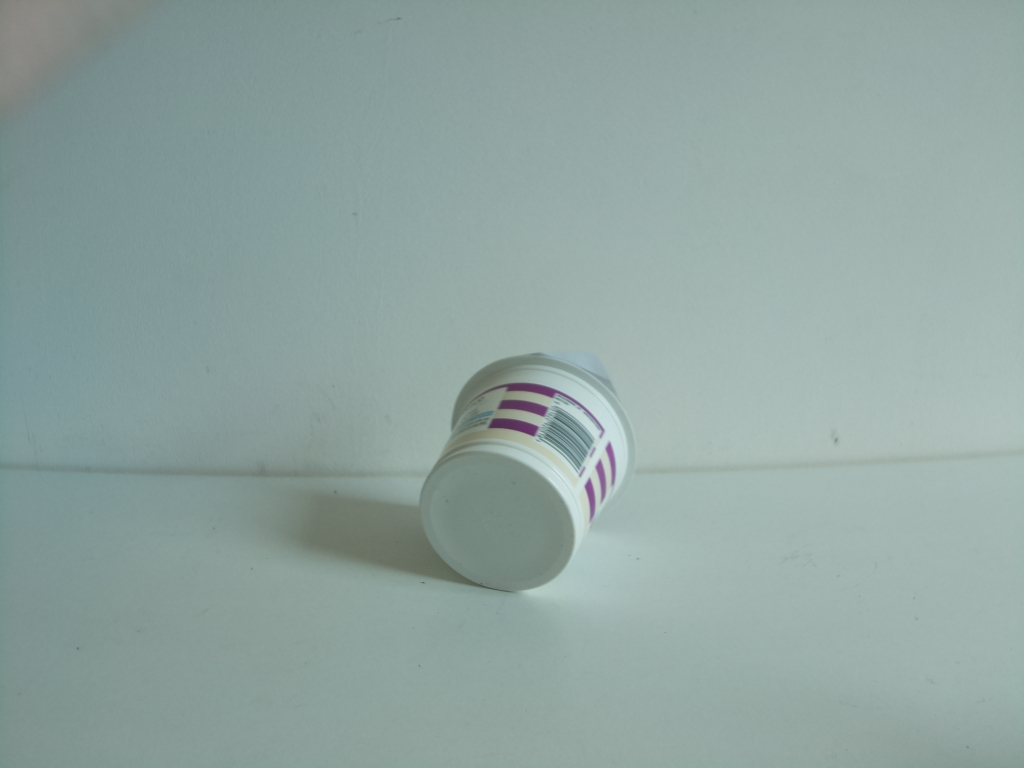cream: (417, 349, 633, 596)
